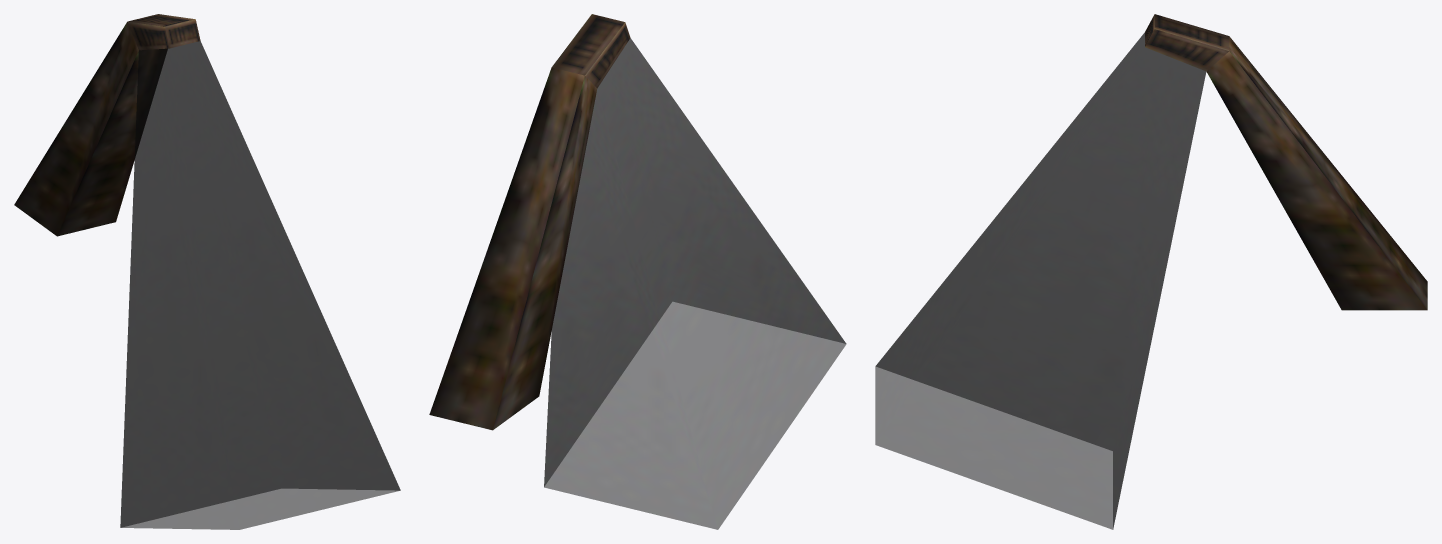
The model's file is prop-044.glb.
3 views of the same model, side by side, from view 1: azimuth 30°, elevation 25°; view 2: azimuth 150°, elevation 25°; view 3: azimuth 270°, elevation 25° (orthographic). The views are drawn at different scales.
Visible parts, largest first — view 1: root; view 2: root; view 3: root.
Part boxes in pixels (x1,y1,x2,y2): root: (14,14,400,529); root: (429,14,846,529); root: (875,14,1427,529).
Bounding box in the file's own units: 0.7441 × 2.07 × 2.21.
Materials: 2 (2 with a texture image).
